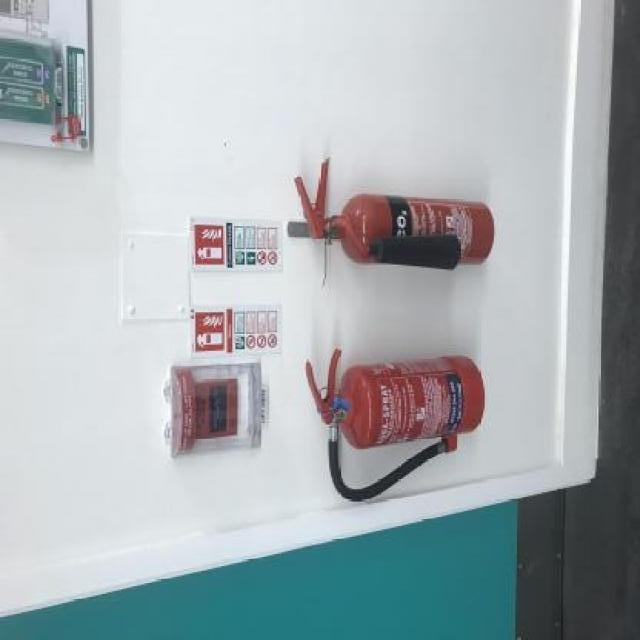fire extinguisher: (303, 346, 486, 502), (285, 157, 497, 268)
